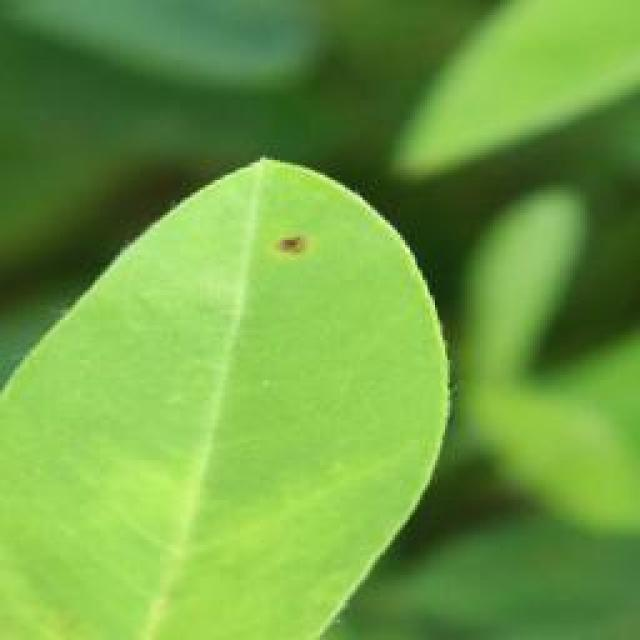Sigatoka: (258, 212, 342, 297)
